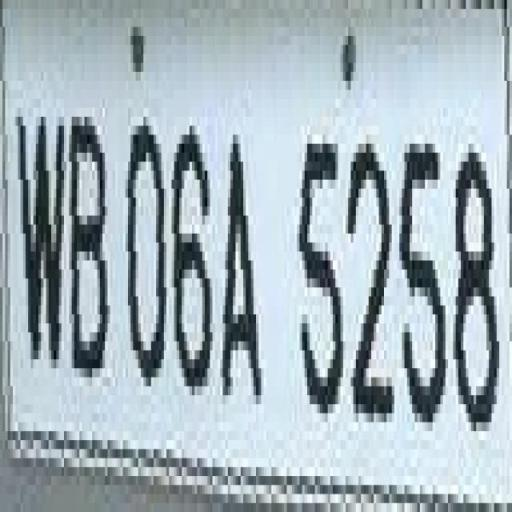number plate: (15, 0, 512, 503)
